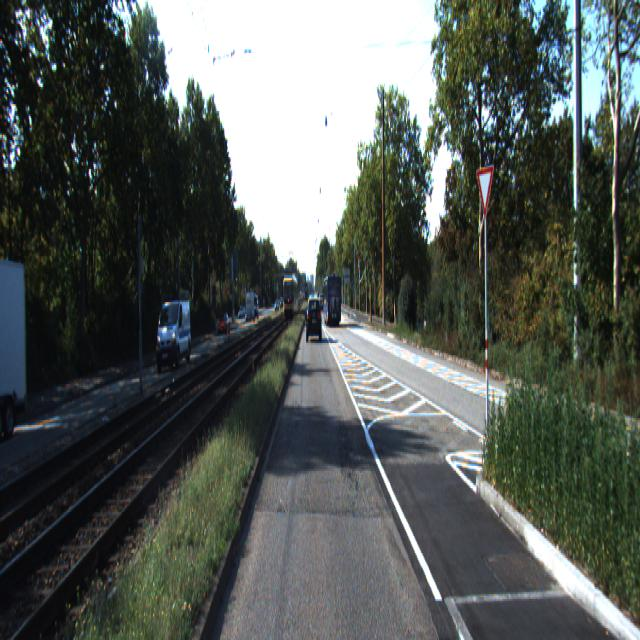Car: (156, 300, 193, 374), (322, 274, 342, 327), (307, 297, 321, 343)
